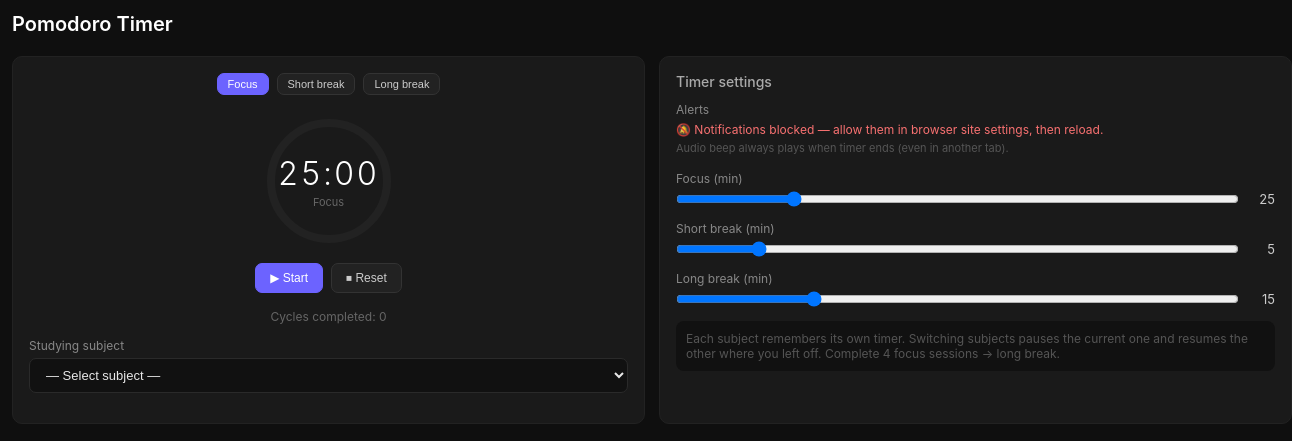
Scenario: Pomodoro › start button begins countdown
Click the button "▶ Start". click: (289, 278)
box: [255,263,323,293]
Wait 3000 ms
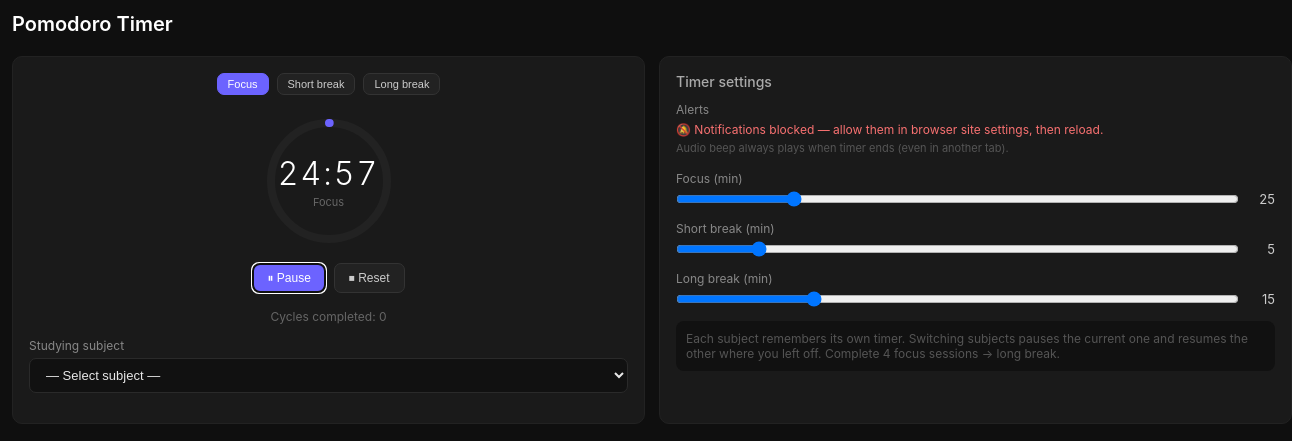
Expected: the text "24:57" is shown, [278,154,379,192]
